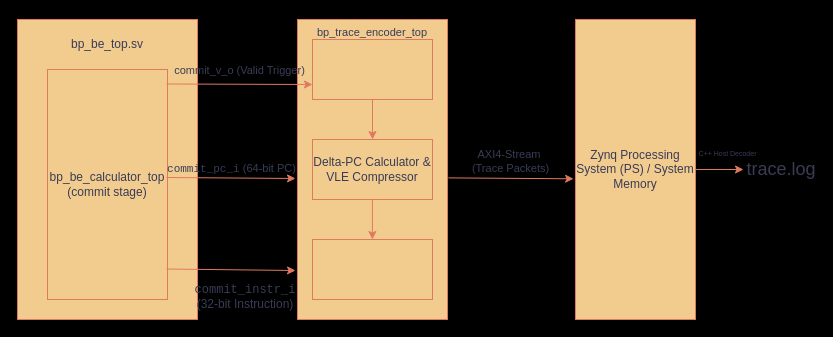
The diagram is 833 pixels wide and 337 high, and some of its shapes have lost their labels. The centre of each missing label's shape, as x and y in pixels:
Elastic Synchronous FIFO: point (372, 269)
Opcode Filter (Filters 0x63, 0x67, 0x6F): point (372, 69)
